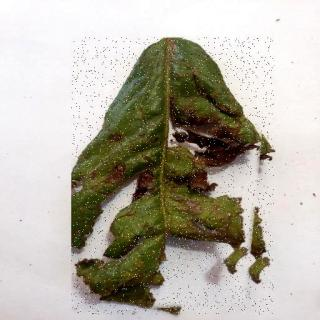Algal Leaf: (73, 39, 275, 316)
